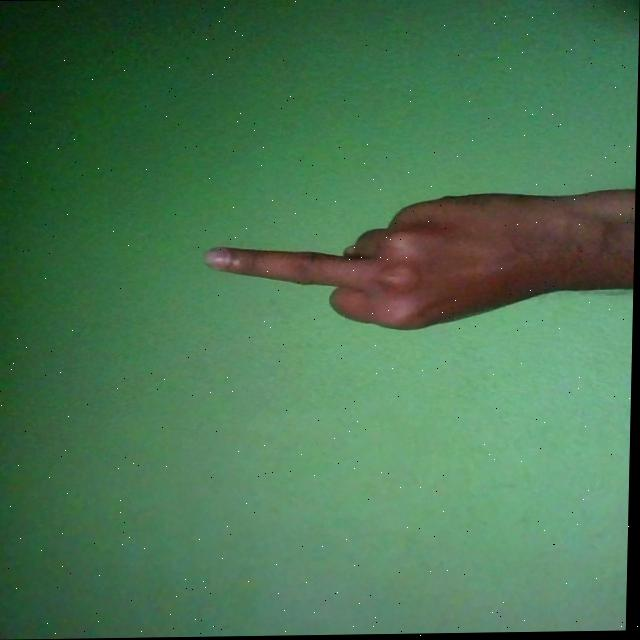Middle Finger: (202, 191, 624, 334)
